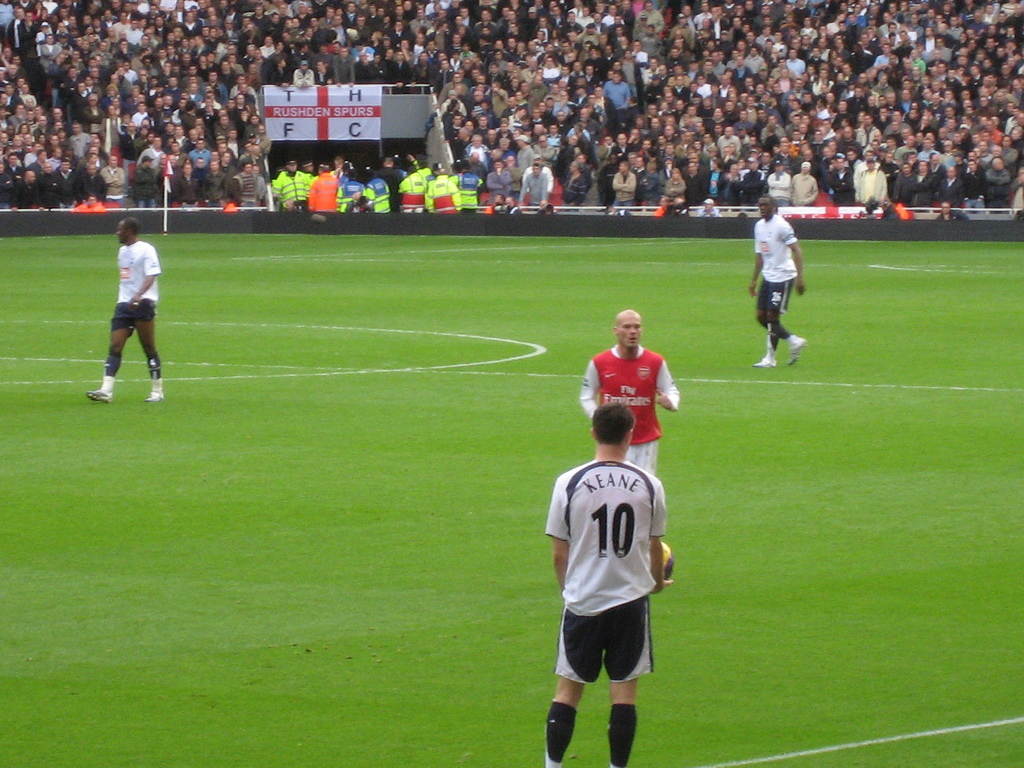Ball: (660, 543, 673, 575)
